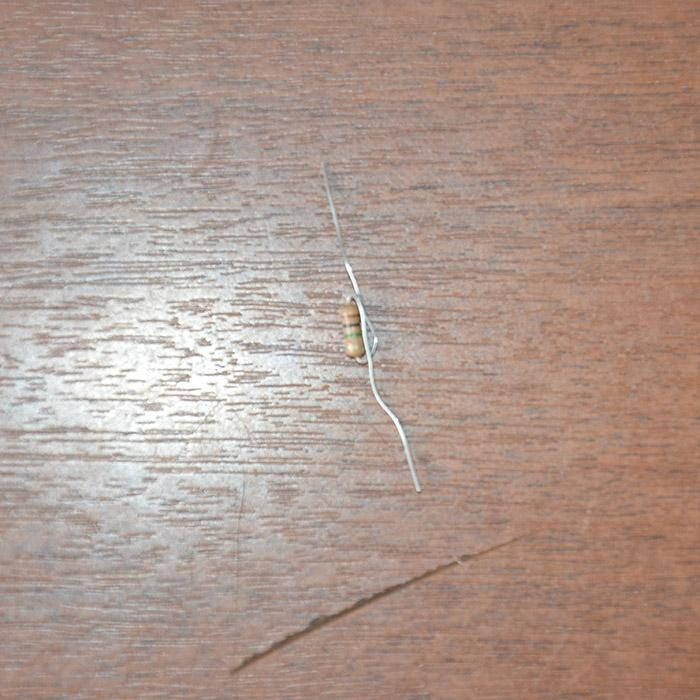resistor: (339, 298, 364, 358)
